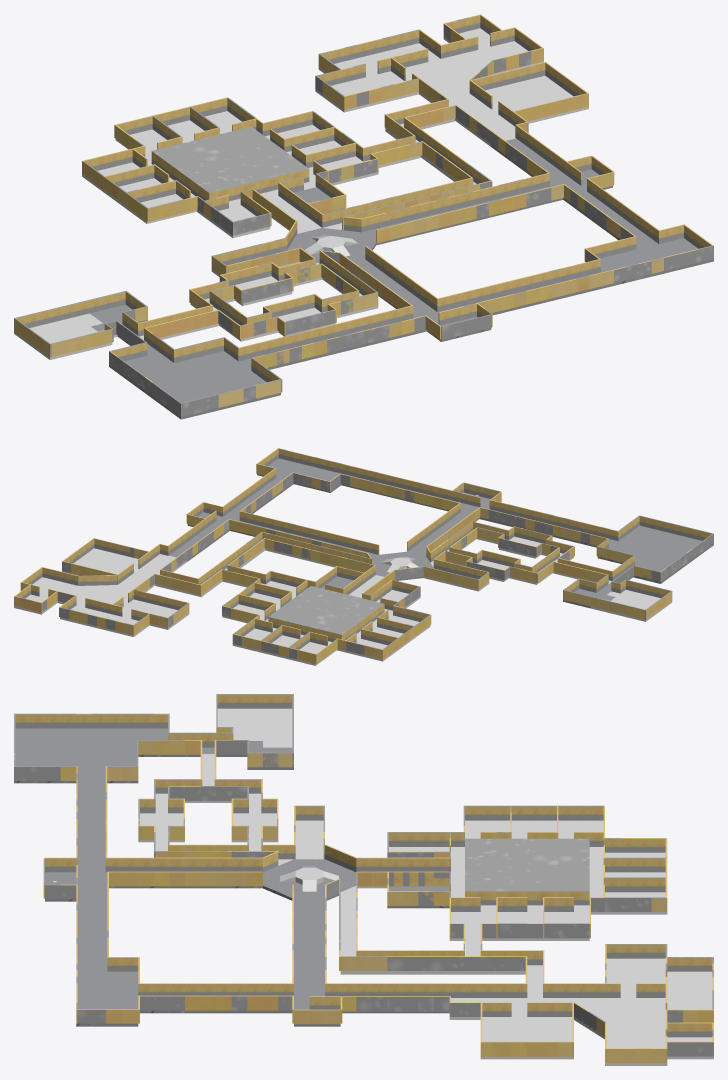
Rendered from Revised map blockoutV5.4.fbx.
The picture shows the model from 3 angles, top to bottom: view 1: azimuth 30°, elevation 25°; view 2: azimuth 150°, elevation 25°; view 3: azimuth 270°, elevation 25°; orthographic projection. The views are drawn at different scales.
Parts seen in each view (by area): view 1: Living quarters walls, Office Walls.001, Pathway Down Walls, Office Floor, Living quarters Room.008, Walls.004, Storage Floor Tile.001, Walls.002, Walls.003, Pathway Right, Pathway Down.001, Walls.001 (+6 smaller); view 2: Living quarters walls, Office Walls.001, Pathway Down Walls, Office Floor, Living quarters Room.008, Walls.004, Storage Floor Tile.001, Walls.003, Walls.002, Pathway Right, Pathway Down.001, Walls.001 (+4 smaller); view 3: Living quarters walls, Office Walls.001, Office Floor, Living quarters Room.008, Pathway Down.001, Walls.003, Storage Floor Tile.001, Pathway Down Walls, Pathway Right, Pathway Up walls, Object, Walls.005 (+11 smaller).
Boxes of the visible parts, x1,y1,x2,y2 form: Living quarters walls: (82,97,378,235); Office Walls.001: (315,14,588,143); Pathway Down Walls: (237,246,613,371); Office Floor: (315,41,588,146); Living quarters Room.008: (151,126,309,201); Walls.004: (361,173,563,243); Storage Floor Tile.001: (109,351,280,419); Walls.002: (584,224,713,283); Walls.003: (491,131,660,249); Pathway Right: (362,138,658,249); Pathway Down.001: (239,259,613,370); Walls.001: (211,237,300,274); Living quarters walls: (222,566,431,664); Office Walls.001: (14,538,189,635); Pathway Down Walls: (340,466,618,551); Office Floor: (32,548,189,636); Living quarters Room.008: (268,586,384,641); Walls.004: (229,511,379,557); Storage Floor Tile.001: (597,525,713,583); Walls.003: (187,468,293,559); Walls.002: (256,448,351,491); Pathway Right: (169,478,378,561); Pathway Down.001: (341,476,617,555); Walls.001: (423,559,489,589); Living quarters walls: (387,805,667,938); Office Walls.001: (449,944,713,1062); Office Floor: (449,958,712,1065); Living quarters Room.008: (465,838,589,905); Pathway Down.001: (77,780,262,970); Walls.003: (138,983,449,1010); Storage Floor Tile.001: (14,728,169,783); Pathway Down Walls: (76,766,262,956); Pathway Right: (140,898,449,1013); Pathway Up walls: (356,857,449,886); Object: (76,971,138,1026); Walls.005: (309,996,449,1011).
Size of the model in its own units: 54002 by 1267 by 45002.
